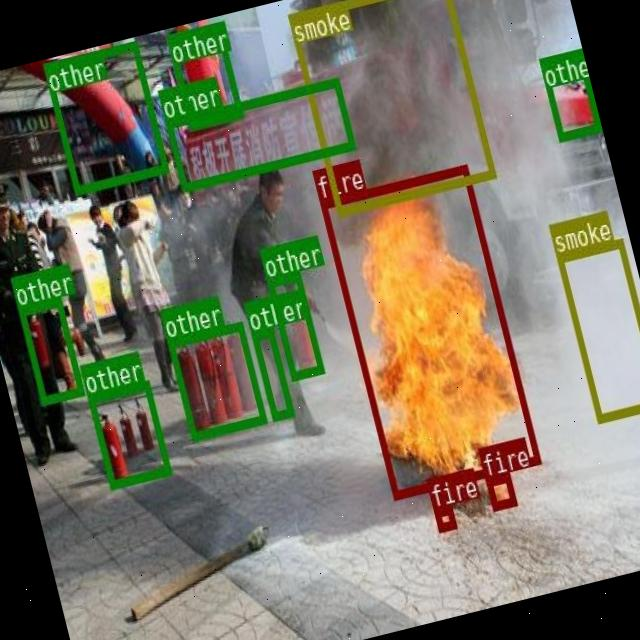fire: (318, 163, 540, 498), (484, 471, 516, 510), (433, 504, 455, 530)
smoke: (286, 0, 494, 215), (554, 237, 640, 421)
